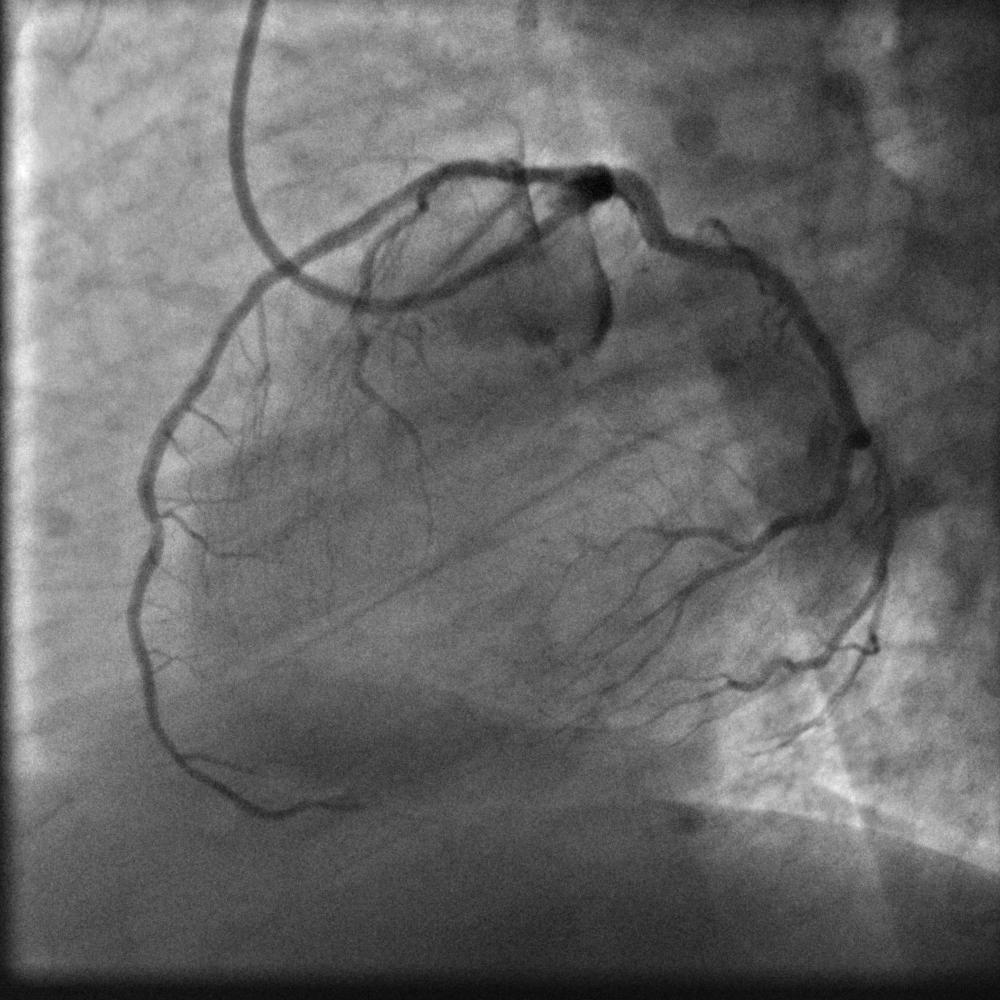Stenosis: (491, 155, 522, 182)
